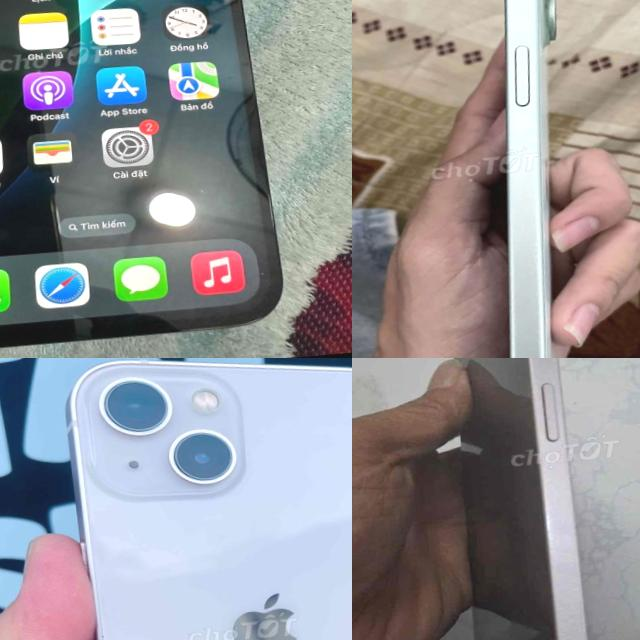gen_12_13: (0, 0, 291, 358), (53, 358, 352, 640), (434, 358, 640, 640)
gen_15: (436, 0, 604, 358)
scratch: (527, 190, 550, 314), (530, 327, 546, 358)
